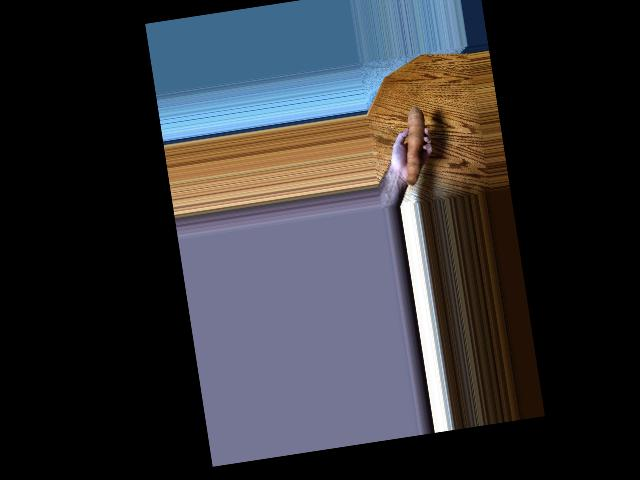sweet_potato: (392, 101, 437, 182)
